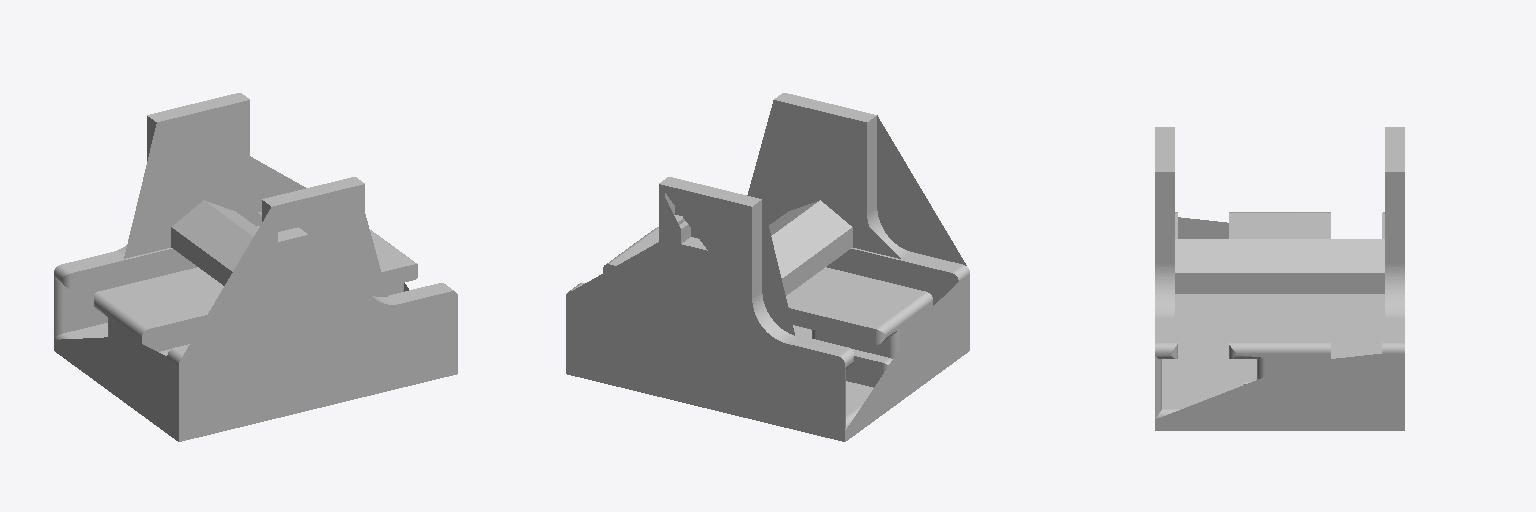
The model's file is Prints_base.obj.
3 renders of one model, left to right at view 1: azimuth 30°, elevation 25°; view 2: azimuth 150°, elevation 25°; view 3: azimuth 270°, elevation 25°, orthographic.
Visible parts, largest first — view 1: base; view 2: base; view 3: base.
Part boxes in pixels (x1,y1,x2,y2): base: (54, 93, 457, 441); base: (566, 93, 969, 441); base: (1155, 127, 1404, 430).
Size of the model in its own units: 0.056 by 0.0408 by 0.0434.